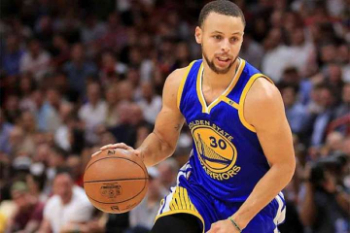ball: (77, 142, 157, 217)
